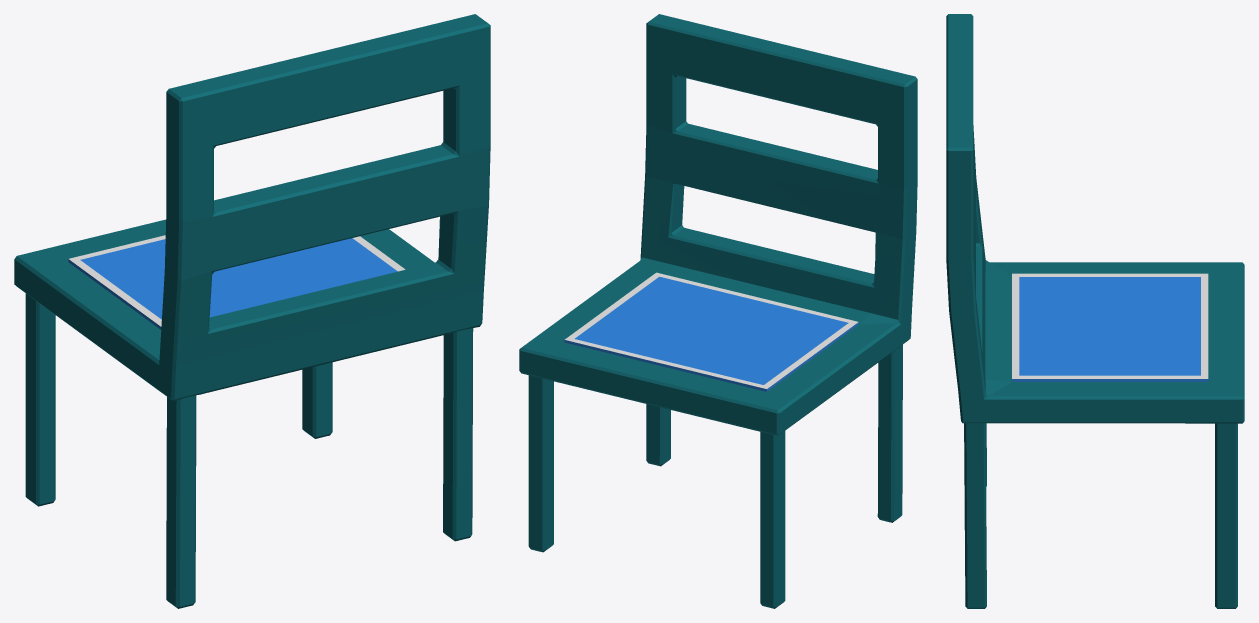
File: Chair.fbx
3 renders of one model, left to right at view 1: azimuth 30°, elevation 25°; view 2: azimuth 150°, elevation 25°; view 3: azimuth 270°, elevation 25°, orthographic. The views are drawn at different scales.
Visible parts, largest first — view 1: Cube.001; view 2: Cube.001; view 3: Cube.001.
Boxes of the visible parts, x1,y1,x2,y2 form: Cube.001: (14,14,490,608); Cube.001: (519,14,917,608); Cube.001: (946,14,1244,608).
Size of the model in its own units: 28.99 by 49.77 by 31.17.
